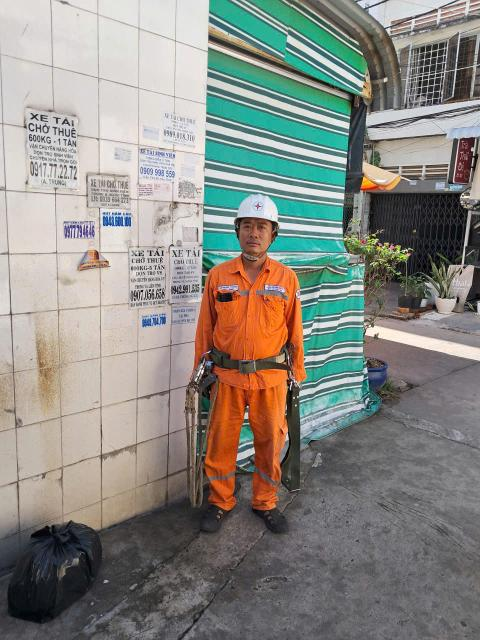harness: (194, 345, 296, 373)
helmet: (229, 187, 285, 230)
shoes: (250, 494, 292, 534), (194, 496, 229, 534)
